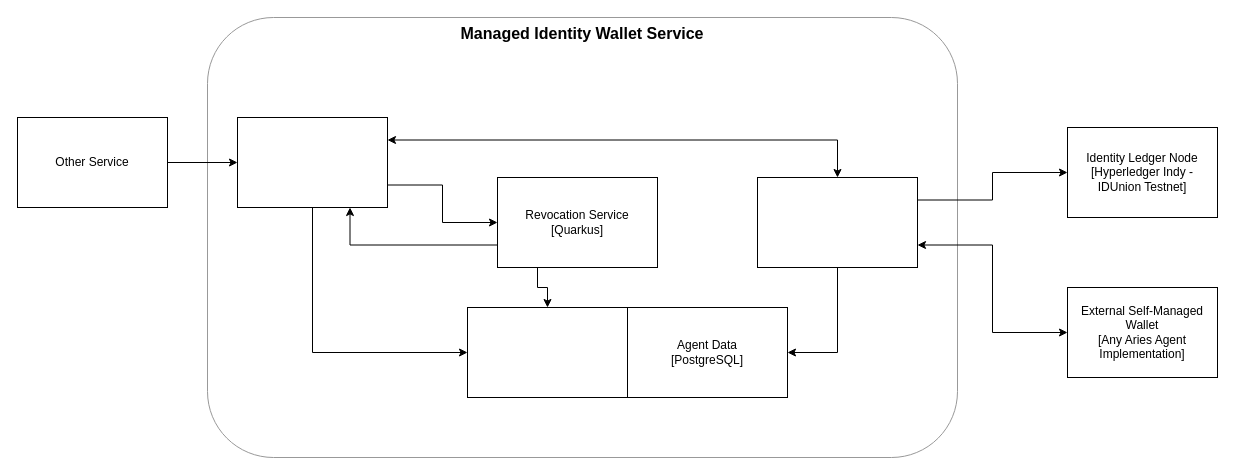
The diagram is 1235 pixels wide and 475 high, and some of its shapes have lost their labels. The shapes that lost their labels are listed below. From the top down, each one's centre as x and y in pixels, then its label:
the point at 312,162: API [ktor[
the point at 837,222: Multi-Tenant Aries / DID-Comm Agent [ACA-Py]
the point at 547,352: Wallet and Credential Data, Revocation Data [PostgreSQL]
